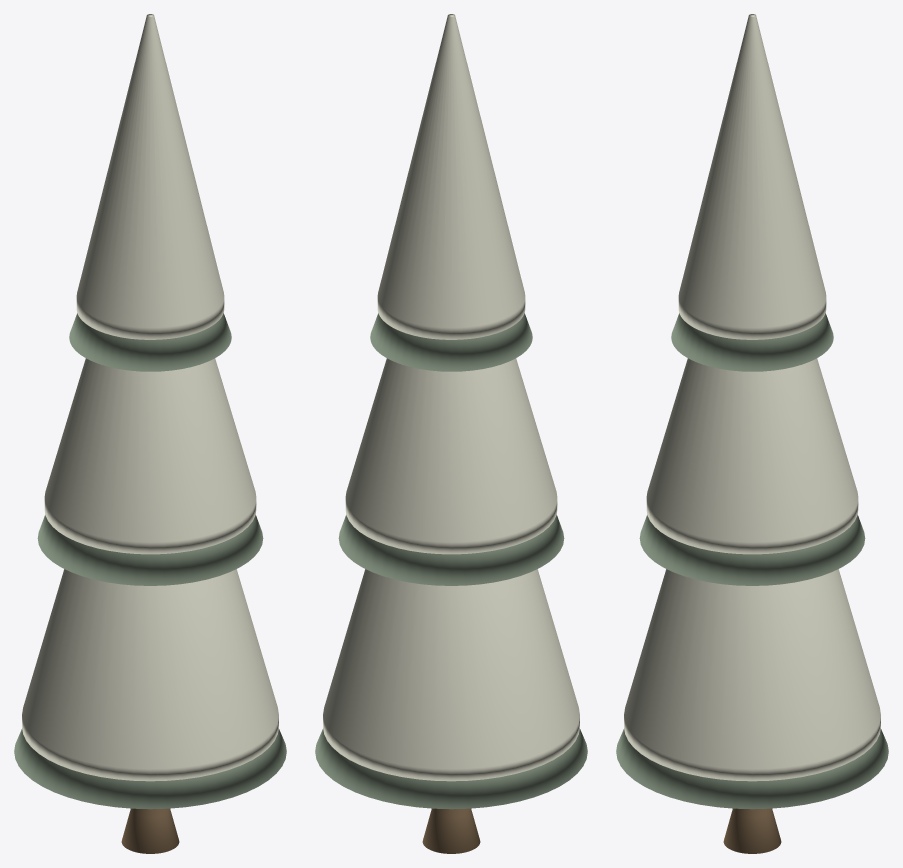
The model's file is snowpine.glb.
3 renders of one model, left to right at view 1: azimuth 30°, elevation 25°; view 2: azimuth 150°, elevation 25°; view 3: azimuth 270°, elevation 25°, orthographic.
Visible parts, largest first — view 1: snow-pine-snow-cap-0, snow-pine-snow-cap-1, snow-pine-snow-cap-2, snow-pine-continuous-needles, snow-pine-trunk; view 2: snow-pine-snow-cap-0, snow-pine-snow-cap-1, snow-pine-snow-cap-2, snow-pine-continuous-needles, snow-pine-trunk; view 3: snow-pine-snow-cap-0, snow-pine-snow-cap-1, snow-pine-snow-cap-2, snow-pine-continuous-needles, snow-pine-trunk.
Boxes of the visible parts, bbox=[...] form: snow-pine-snow-cap-0: bbox=[22, 569, 278, 781]; snow-pine-snow-cap-1: bbox=[44, 358, 256, 554]; snow-pine-snow-cap-2: bbox=[76, 14, 224, 339]; snow-pine-continuous-needles: bbox=[14, 313, 286, 809]; snow-pine-trunk: bbox=[121, 808, 179, 853]; snow-pine-snow-cap-0: bbox=[323, 569, 579, 781]; snow-pine-snow-cap-1: bbox=[345, 358, 557, 554]; snow-pine-snow-cap-2: bbox=[377, 14, 525, 339]; snow-pine-continuous-needles: bbox=[315, 313, 587, 809]; snow-pine-trunk: bbox=[422, 808, 480, 853]; snow-pine-snow-cap-0: bbox=[624, 569, 880, 781]; snow-pine-snow-cap-1: bbox=[646, 358, 858, 554]; snow-pine-snow-cap-2: bbox=[678, 14, 826, 339]; snow-pine-continuous-needles: bbox=[616, 313, 888, 809]; snow-pine-trunk: bbox=[723, 808, 781, 853].
Size of the model in its own units: 1.04 by 3.48 by 1.04.
